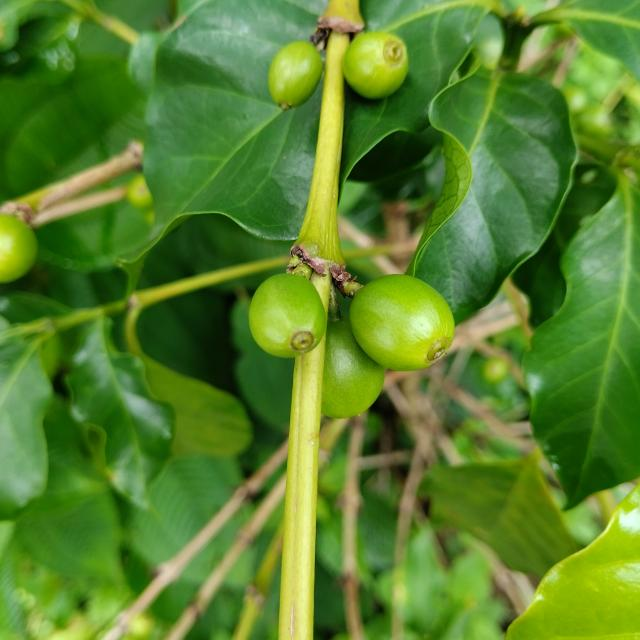green: (350, 274, 455, 371), (249, 274, 327, 358), (322, 317, 385, 419), (343, 31, 408, 98), (268, 40, 323, 109), (0, 214, 36, 283)
